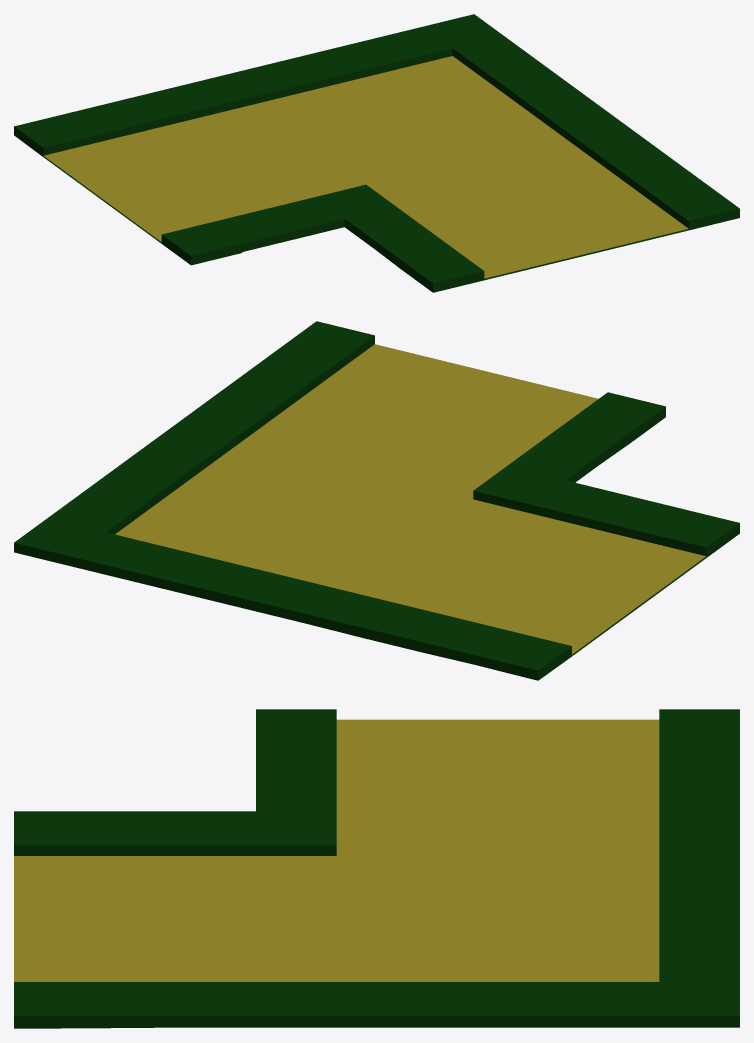
The model's file is Path Corner.FBX.
The picture shows the model from 3 angles, top to bottom: view 1: azimuth 30°, elevation 25°; view 2: azimuth 150°, elevation 25°; view 3: azimuth 270°, elevation 25°; orthographic projection. The views are drawn at different scales.
Visible parts, largest first — view 1: Cornor; view 2: Cornor; view 3: Cornor.
Part boxes in pixels (box(x1,y1,x2,y2)): Cornor: box(14, 14, 739, 292); Cornor: box(14, 321, 739, 680); Cornor: box(14, 709, 739, 1028).
Bounding box in the file's own units: 125 × 2.43 × 125.
